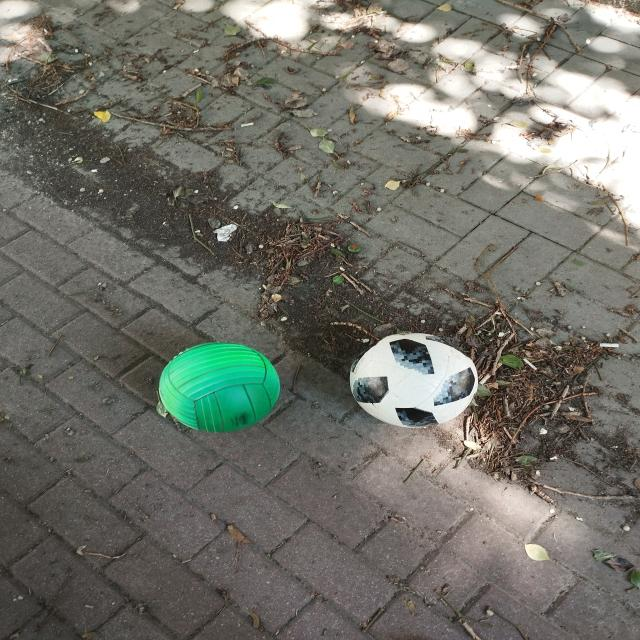nozna: (349, 333, 478, 428)
zielona: (158, 341, 281, 433)
